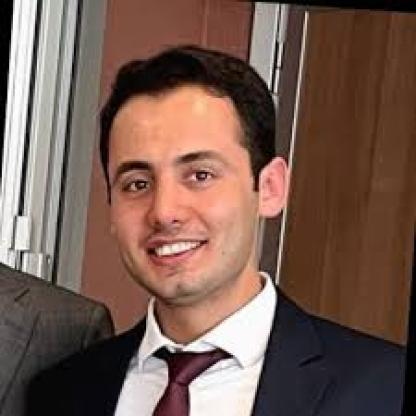person: (99, 45, 293, 306)
